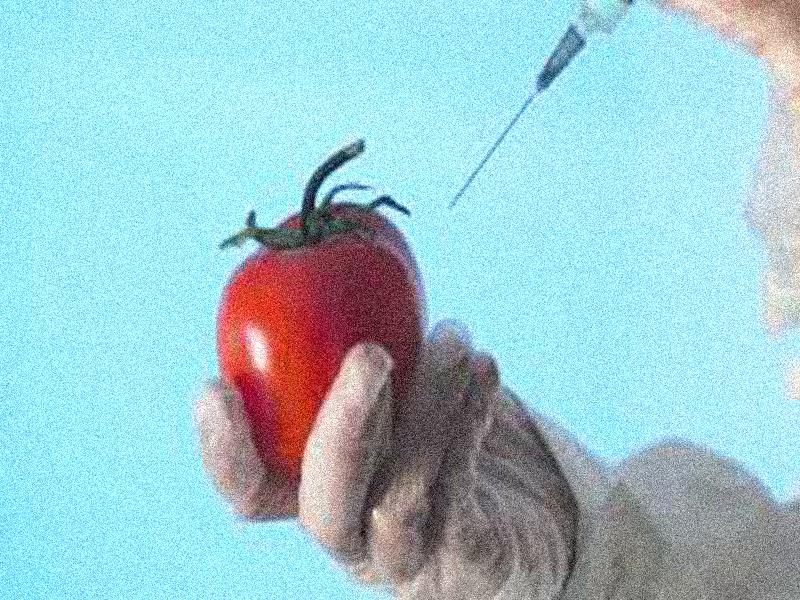Tomato: (215, 204, 423, 479)
